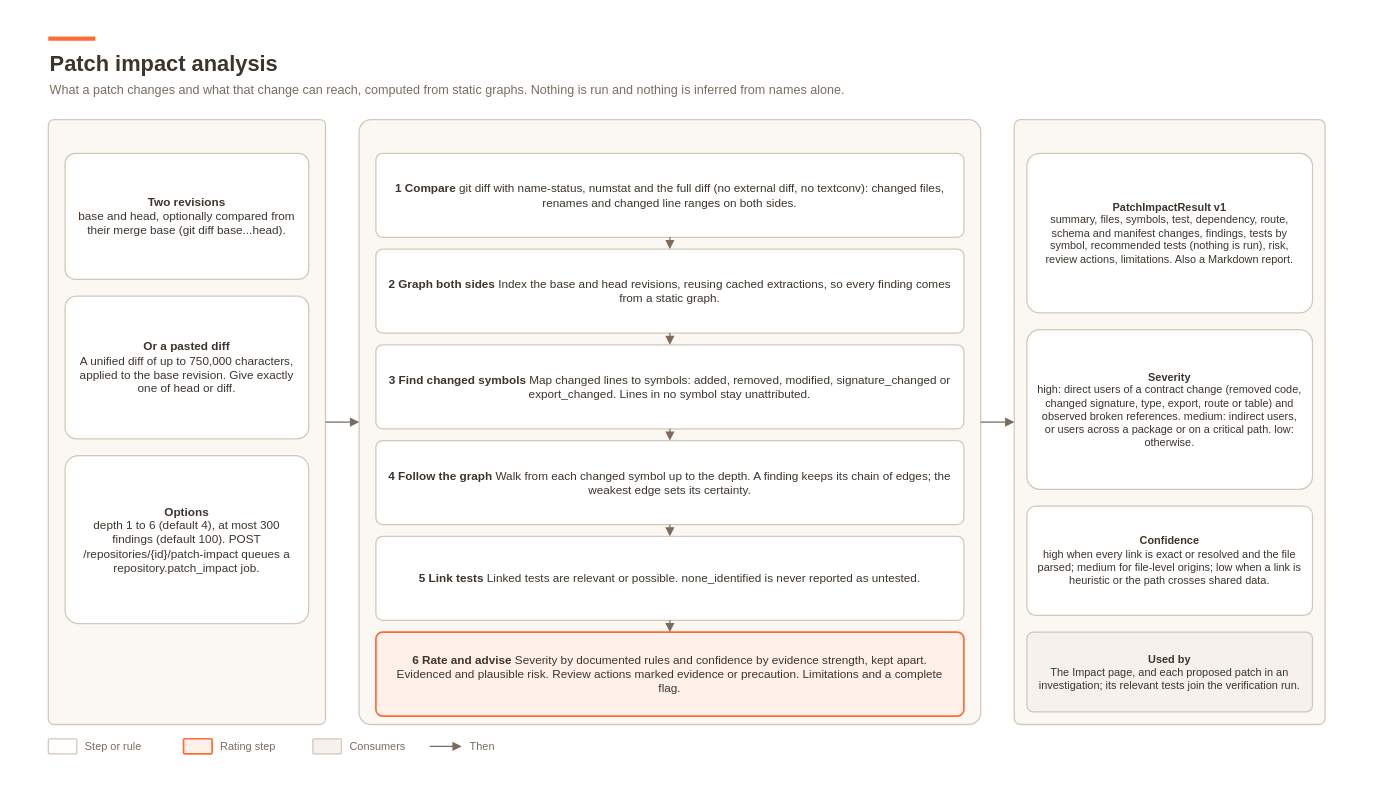
This 1373x785 diagram has some shape labels left out. Each missing label, with the box of its shape:
Analysis (computePatchImpact and analyzePatch): (358, 119, 981, 725)
Inputs: (47, 119, 326, 725)
Result and rules: (1013, 119, 1325, 725)
